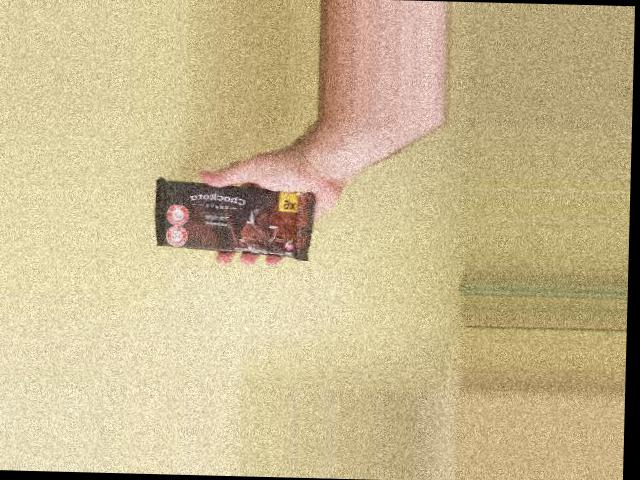chocolate: (154, 174, 316, 261)
